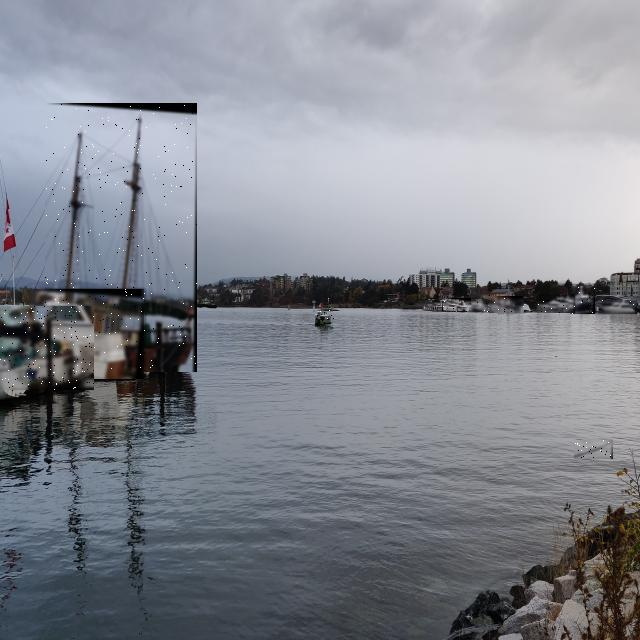boat: (45, 103, 197, 372), (30, 289, 146, 379), (0, 306, 94, 390), (570, 286, 595, 314), (537, 295, 575, 313), (490, 296, 526, 313), (602, 300, 637, 314), (442, 298, 471, 311), (316, 309, 336, 327), (467, 299, 488, 312)
debris: (574, 440, 613, 459)
